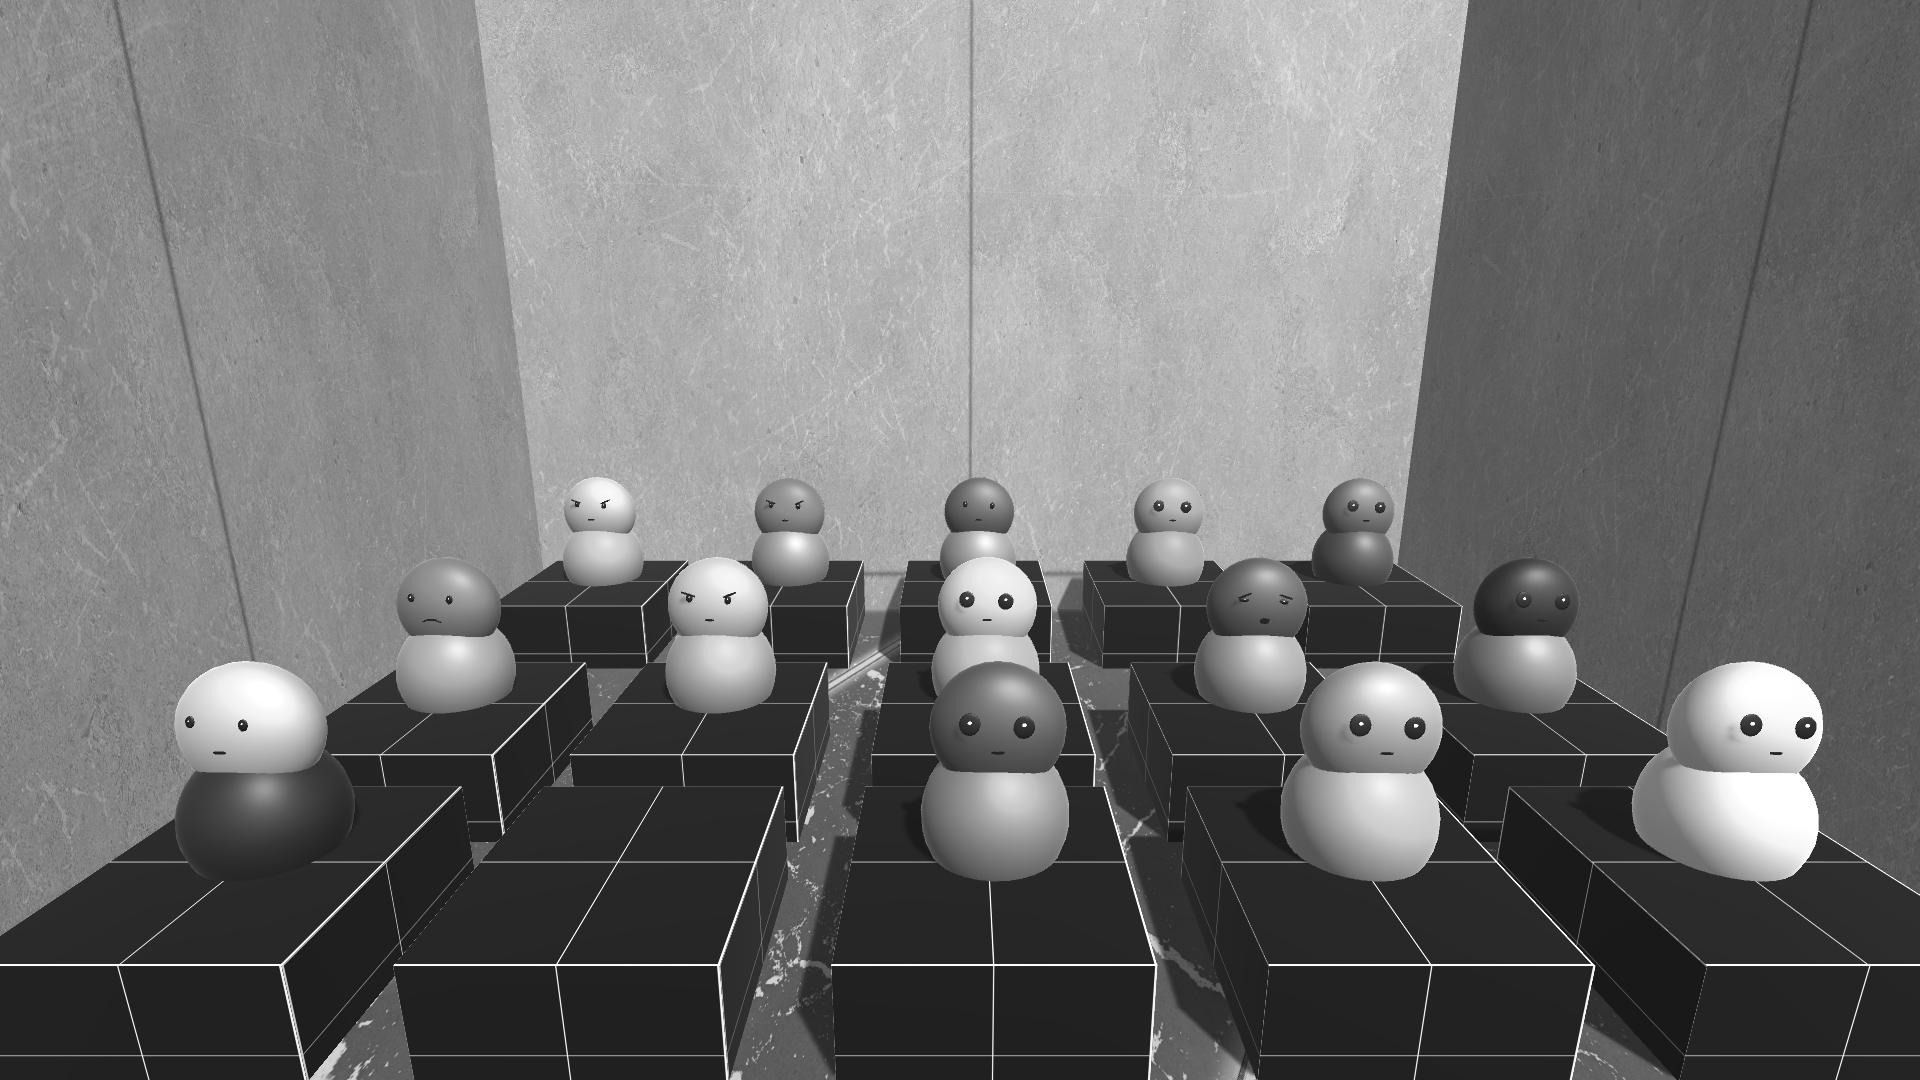blob_atento: (1629, 661, 1826, 889), (1280, 659, 1441, 886), (924, 659, 1067, 877), (1451, 554, 1581, 724), (931, 559, 1051, 691), (1313, 469, 1400, 591)
blob_entediado: (1196, 549, 1304, 727)
blob_normal: (173, 657, 357, 876), (1121, 480, 1204, 597), (945, 480, 1019, 579)
blob_raiva: (665, 556, 773, 707), (746, 473, 833, 589), (560, 473, 641, 593)
blob_triste: (396, 556, 526, 719)
